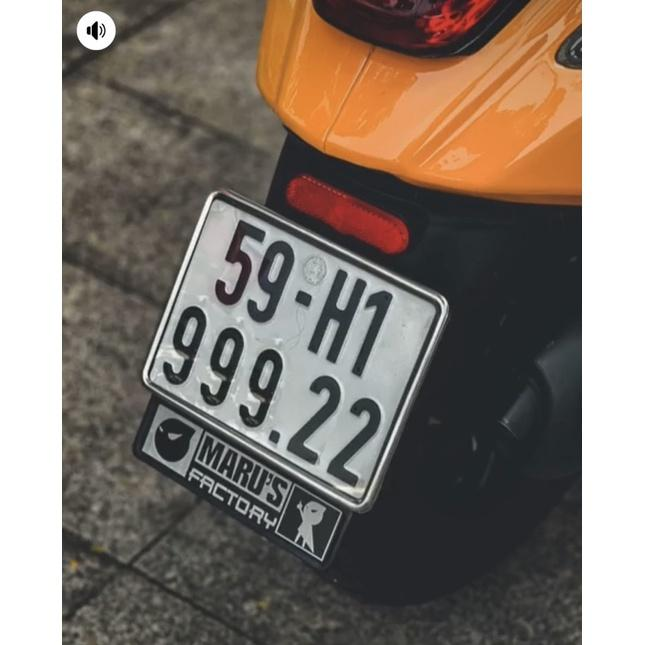numplate: (135, 183, 454, 508)
